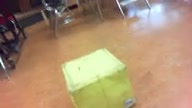cube: (61, 48, 137, 108)
